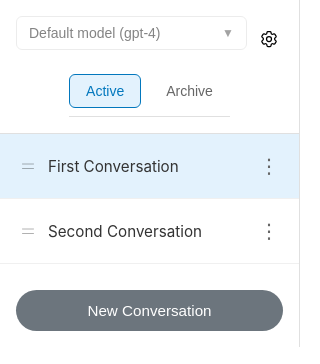
Scenario: ConversationList › enters rename mode when rename is clicked
The width and height of the screenshot is (320, 364).
Step 1. Click the button with class "menu-button" next to "First Conversation" → click(269, 166), box [255,150,283,182]
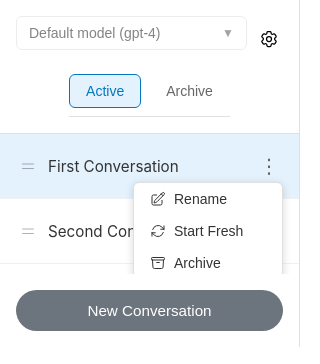
Step 2. Click the button "Rename" → click(208, 199), box [134,183,282,215]
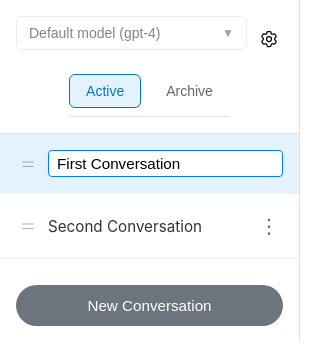
Check: the field with class "conversation-title-input" holds "First Conversation", box [48,150,283,177]
